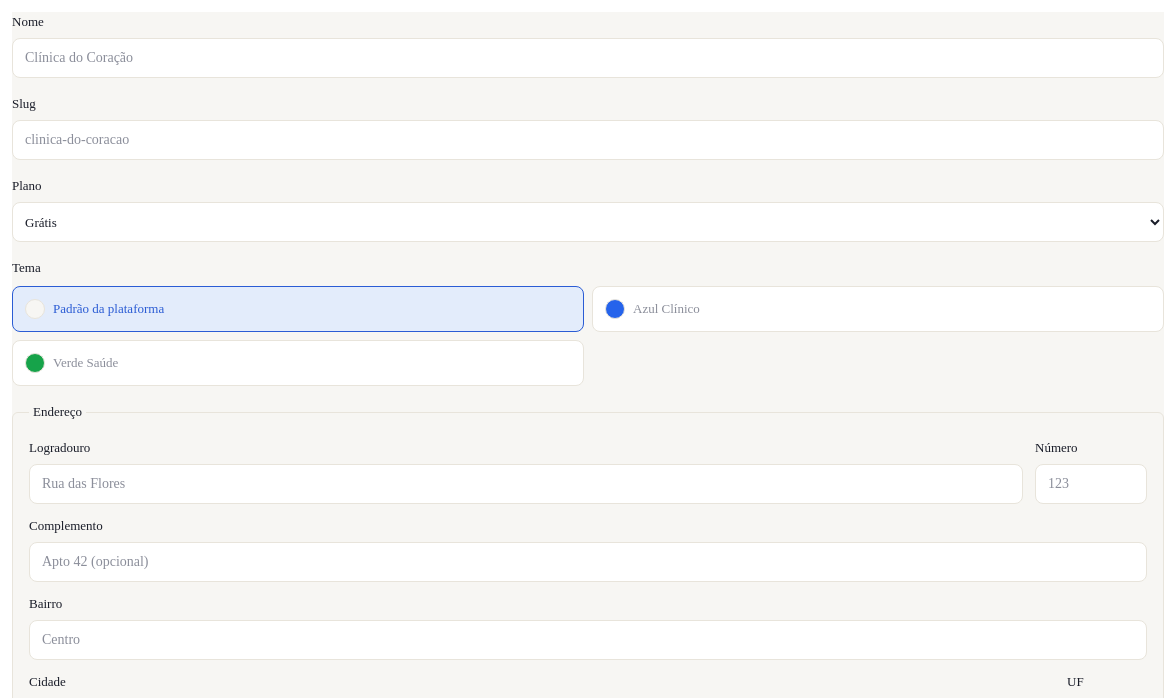
Test: ClinicForm (integration) — create mode › updates slug preview in real time from name field
The width and height of the screenshot is (1176, 698).
In the field with test id "clinic-form-name": (588, 58) [12,38,1164,78], type "Minha Clínica"
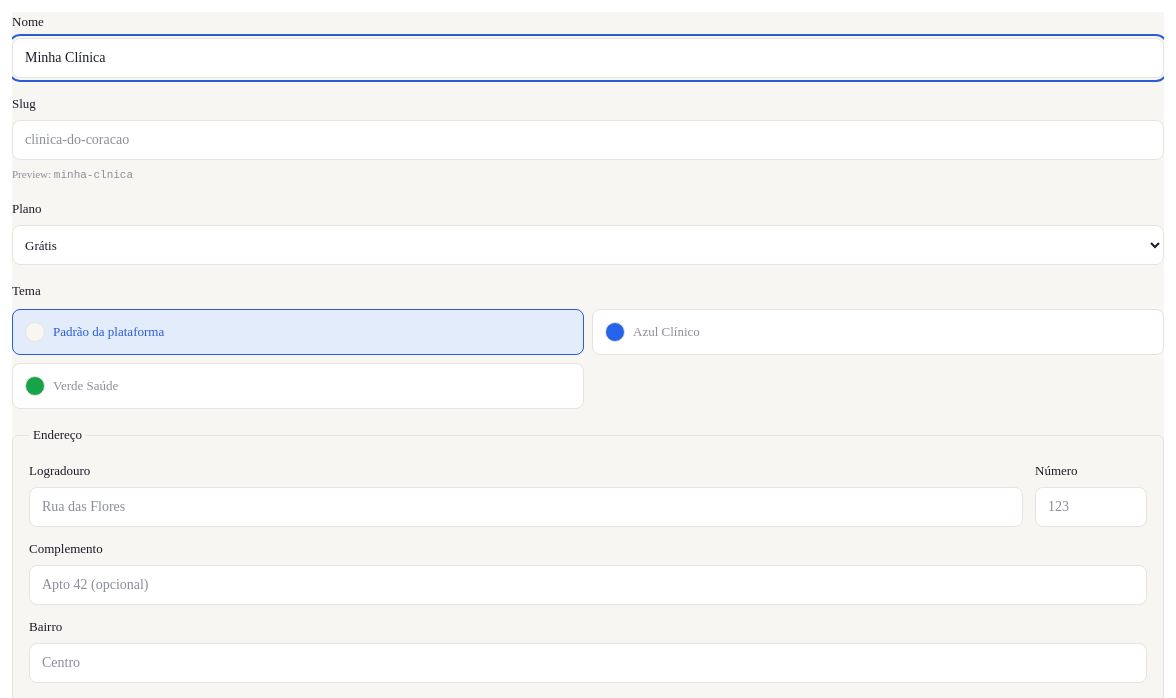
Expected: the element with test id "clinic-form-slug-preview" shows "minha-clnica", [54,169,133,181]
